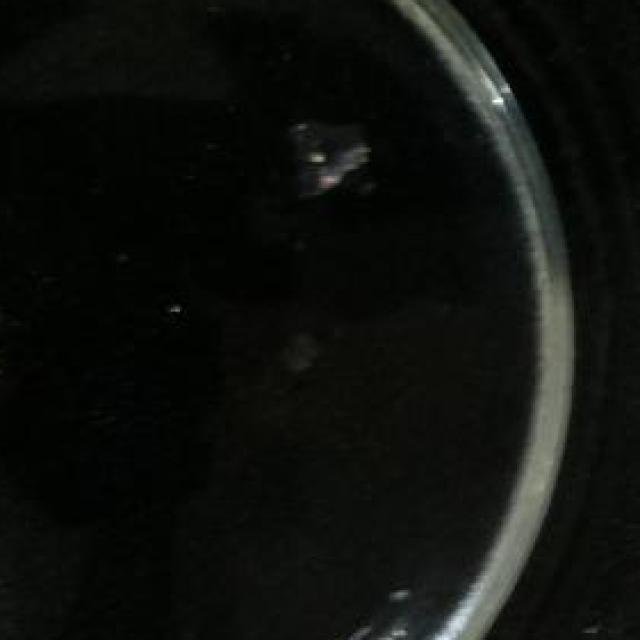Microplastic: (276, 107, 374, 193)
